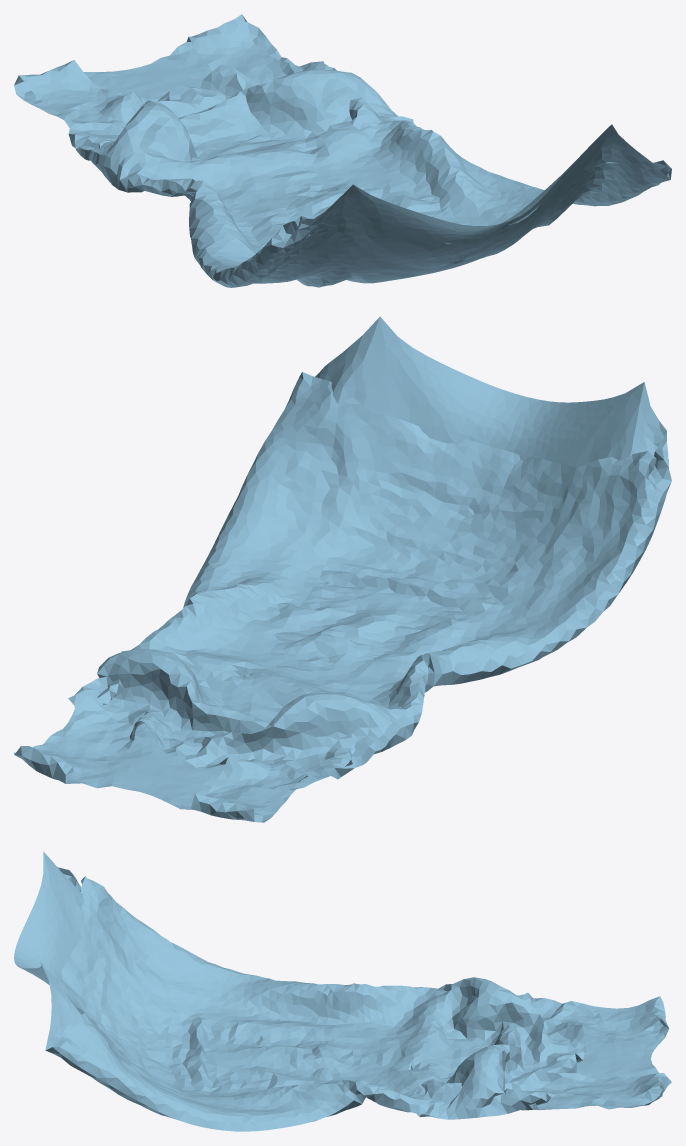
The model's file is frame_03.glb.
The picture shows the model from 3 angles, top to bottom: view 1: azimuth 30°, elevation 25°; view 2: azimuth 150°, elevation 25°; view 3: azimuth 270°, elevation 25°; orthographic projection. The views are drawn at different scales.
Visible parts, largest first — view 1: frame_03.obj; view 2: frame_03.obj; view 3: frame_03.obj.
Boxes of the visible parts, bbox=[...] form: frame_03.obj: bbox=[14, 14, 671, 287]; frame_03.obj: bbox=[14, 316, 671, 822]; frame_03.obj: bbox=[14, 851, 671, 1131].
Bounding box in the file's own units: 1.04 × 0.4679 × 1.81.
